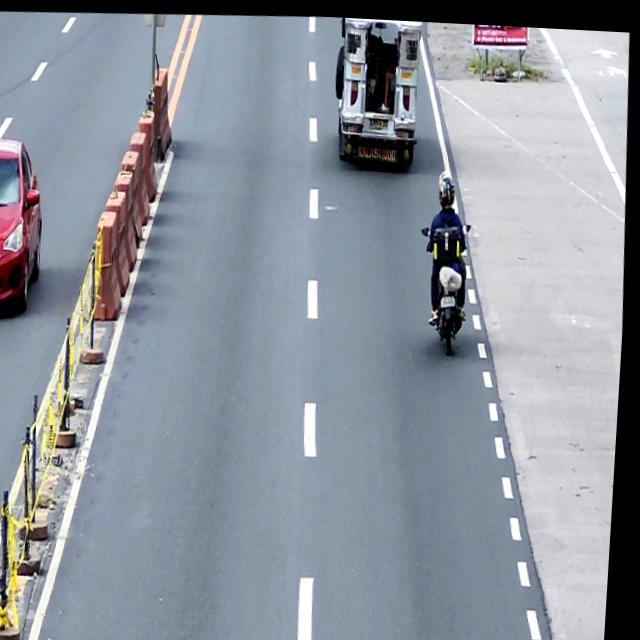Car: (0, 133, 51, 313)
Jeep: (329, 14, 427, 164)
License-Plate: (439, 285, 463, 308), (367, 110, 392, 130)
Motorcycle: (417, 216, 478, 352)
